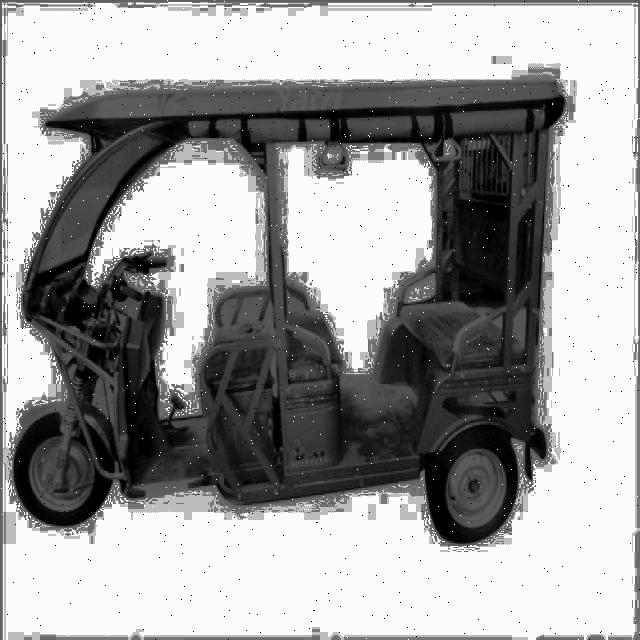Toto: (11, 67, 574, 555)
